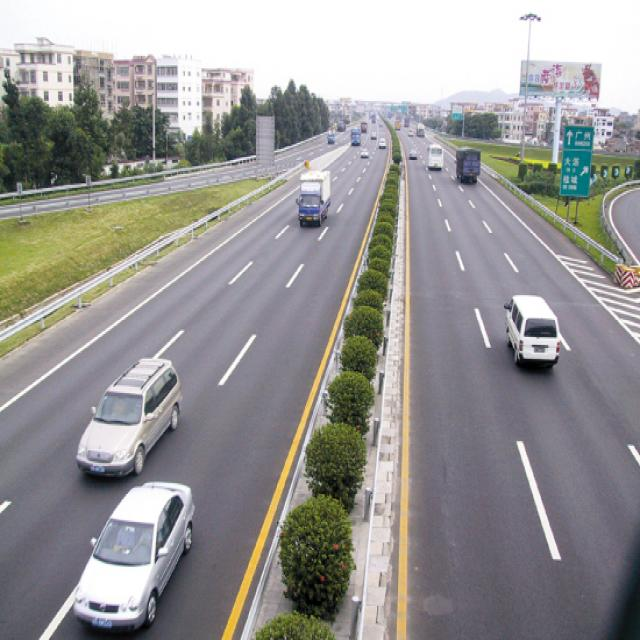point: (314, 46, 462, 186)
